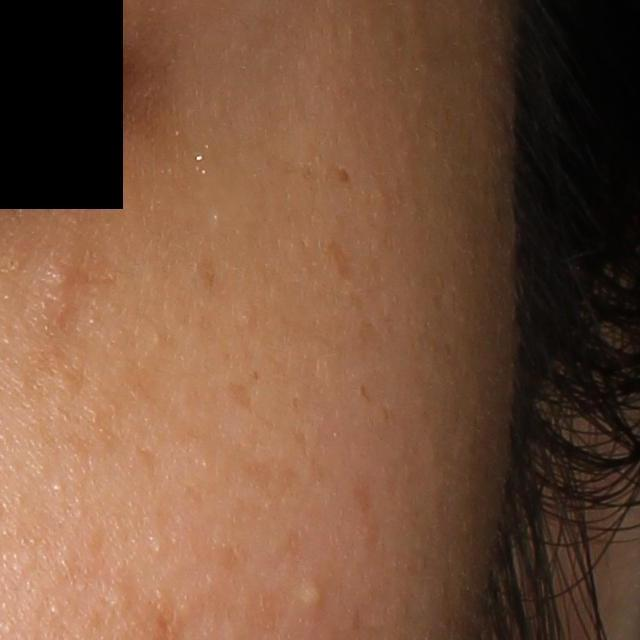comedo: (42, 258, 75, 297), (291, 580, 322, 613), (148, 532, 170, 560)
melasma: (9, 323, 84, 393), (239, 457, 301, 495), (323, 222, 355, 275), (191, 246, 220, 290), (226, 377, 259, 412), (289, 424, 312, 463), (357, 381, 371, 402), (382, 404, 396, 424)
